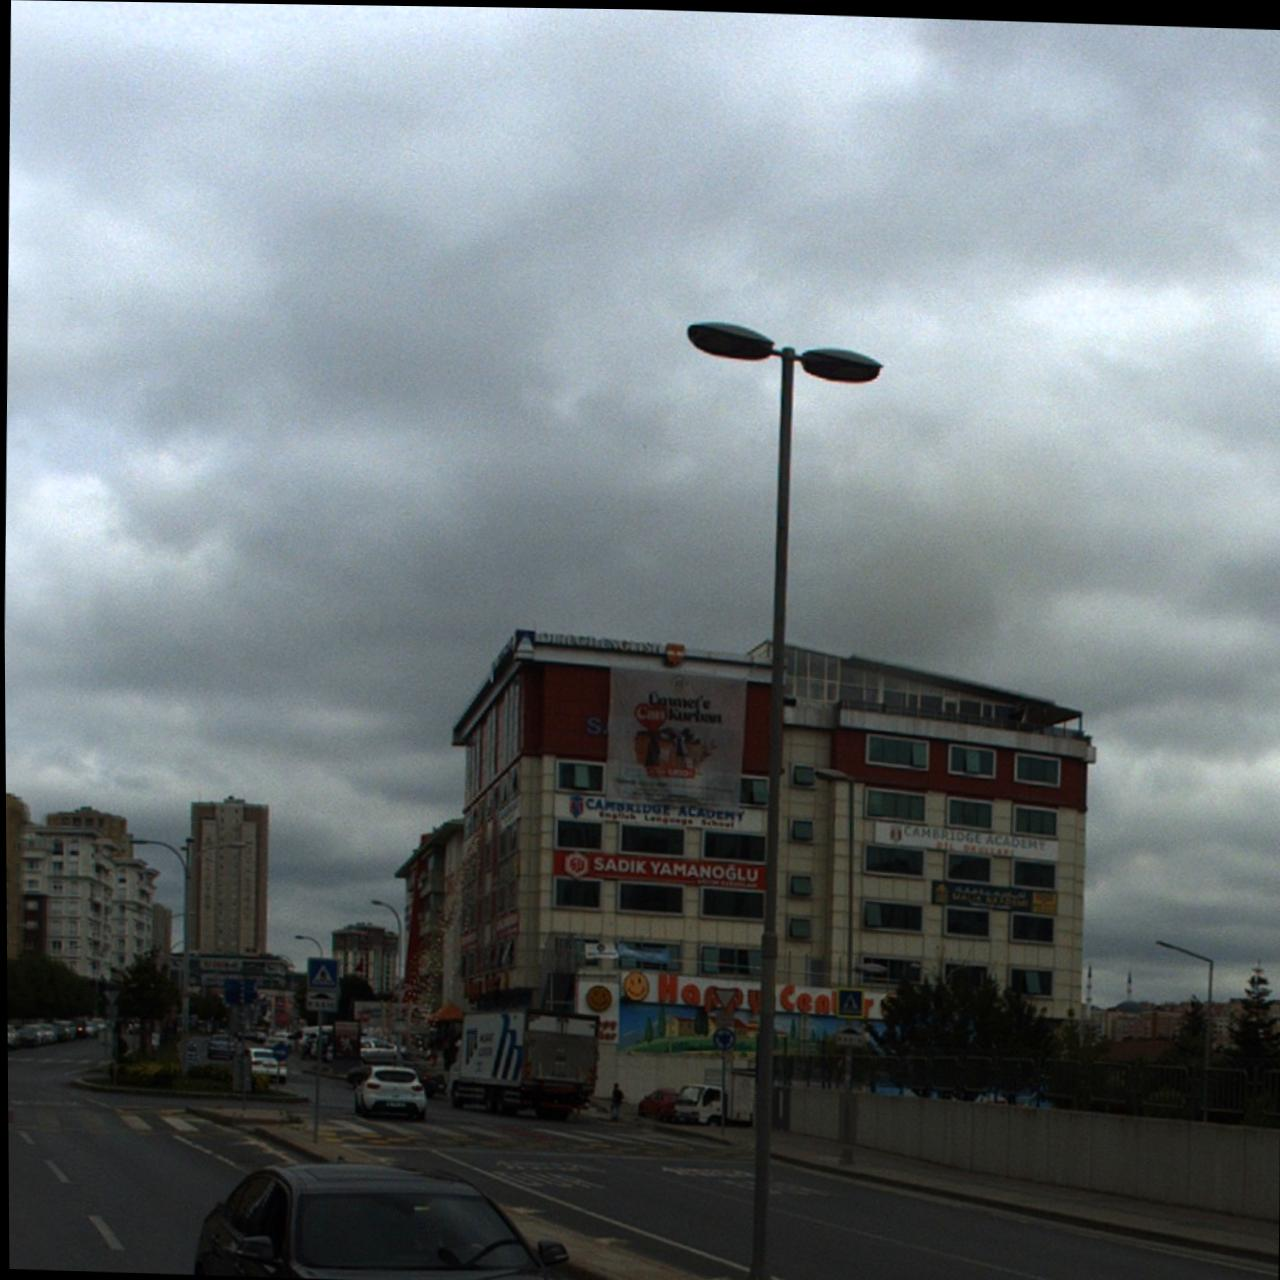SignStore: (619, 968, 899, 1020), (489, 628, 685, 683), (552, 792, 762, 831), (550, 850, 765, 887), (873, 819, 1057, 859), (931, 878, 1056, 912)
